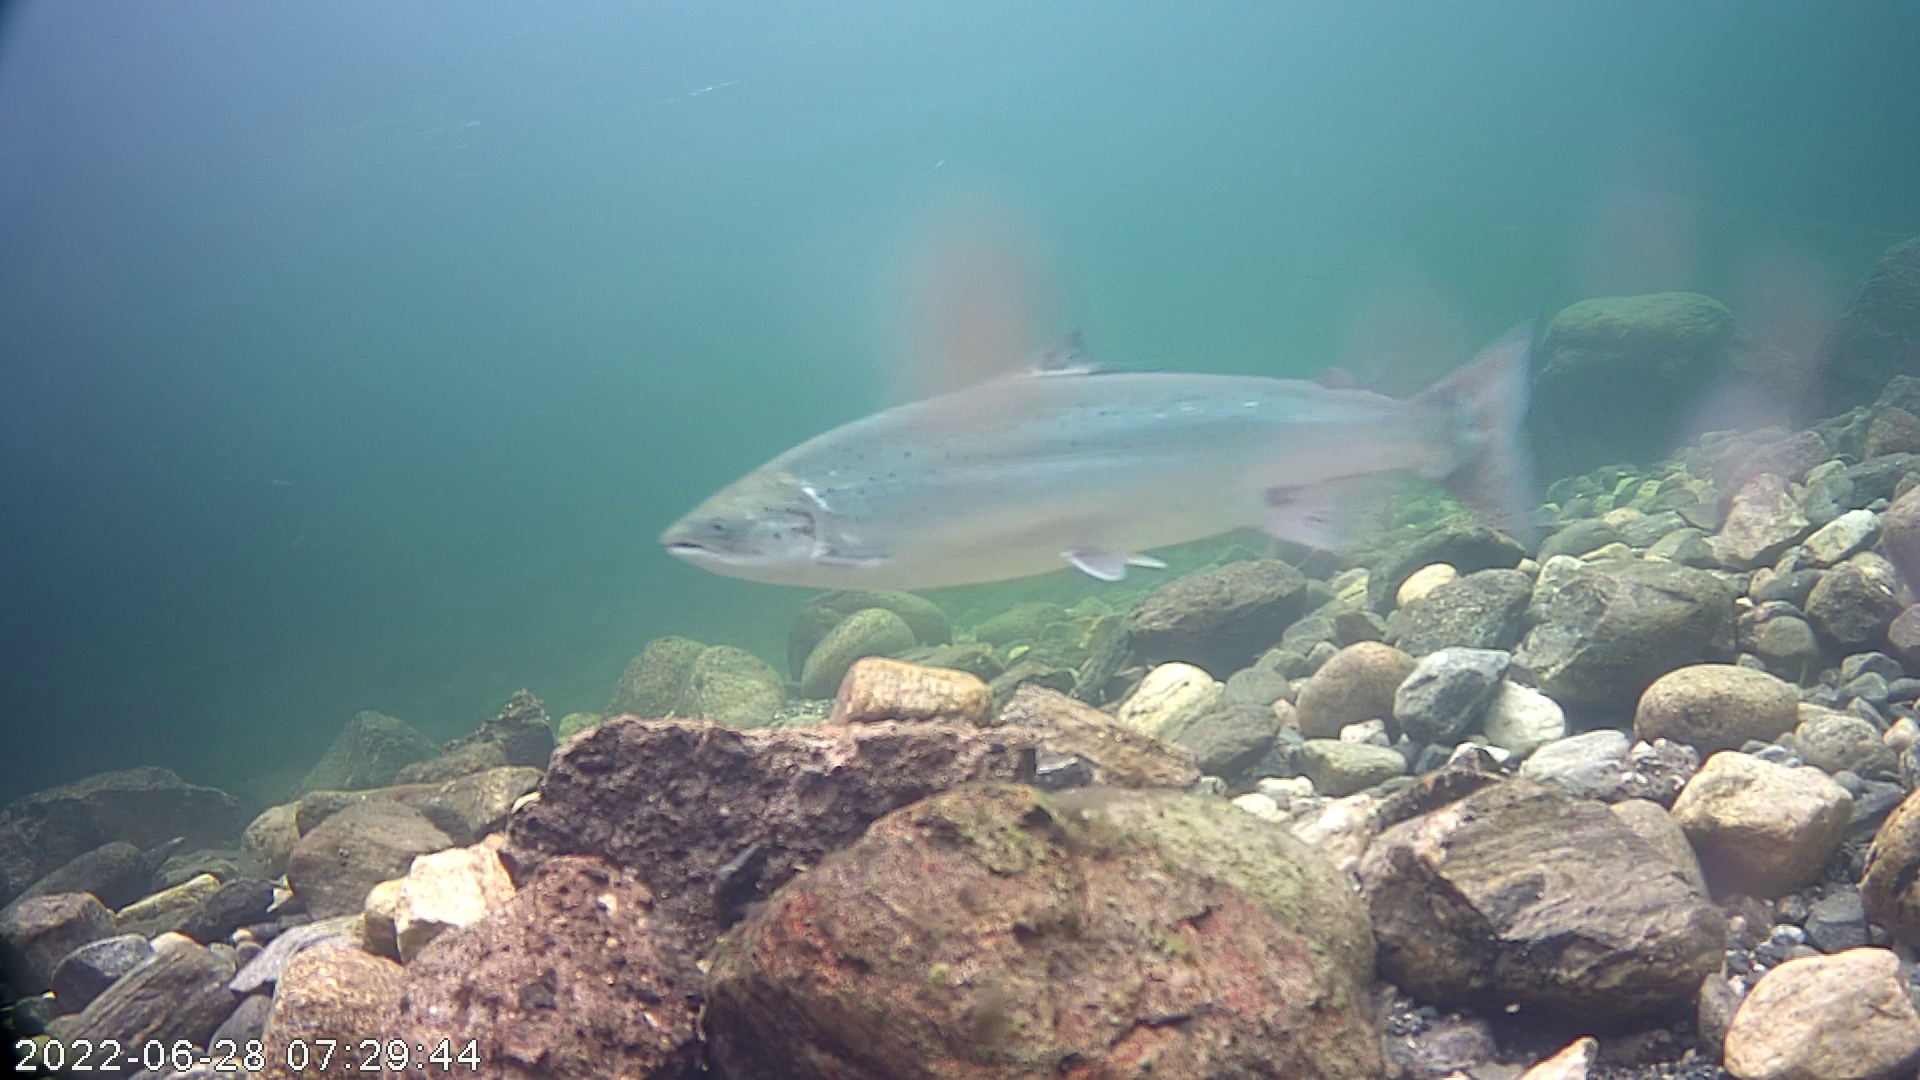salmon: (647, 240, 1567, 636)
